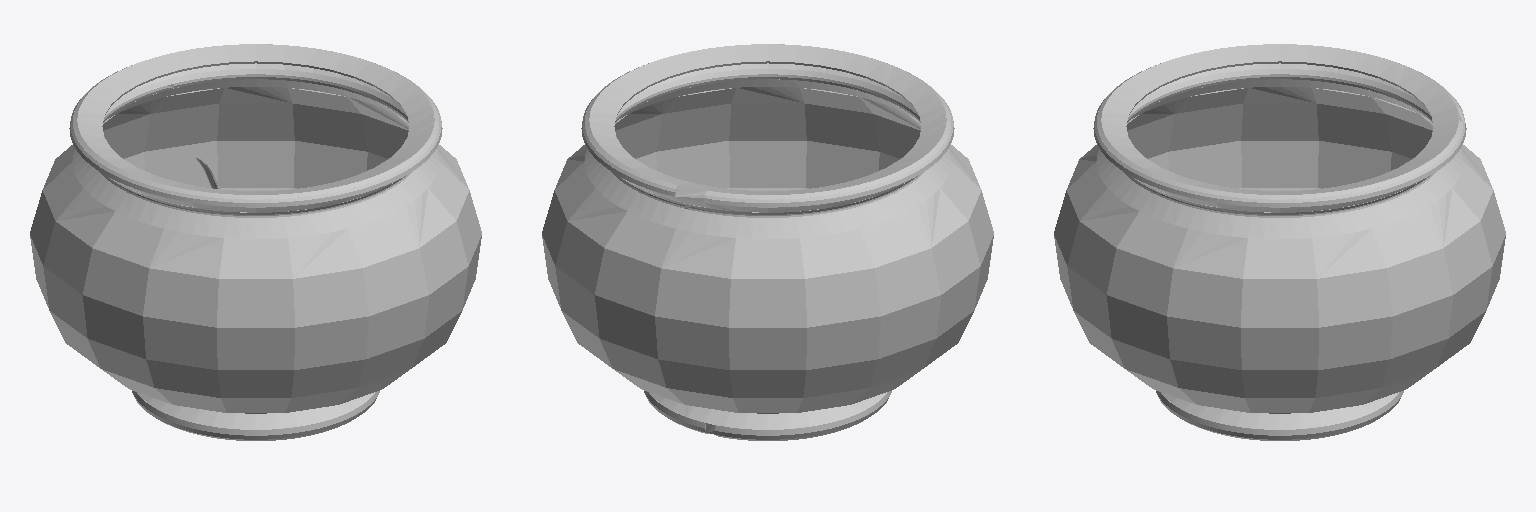
Rendered from GoldfishAndBowl.obj.
The picture shows the model from 3 angles: view 1: azimuth 30°, elevation 25°; view 2: azimuth 150°, elevation 25°; view 3: azimuth 270°, elevation 25°; orthographic projection.
Visible parts, largest first — view 1: initialShadingGroup revolvedSurface1; view 2: initialShadingGroup revolvedSurface1; view 3: initialShadingGroup revolvedSurface1.
Boxes of the visible parts, box(x1,y1,x2,y2) form: initialShadingGroup revolvedSurface1: box(30, 44, 481, 440); initialShadingGroup revolvedSurface1: box(542, 44, 993, 440); initialShadingGroup revolvedSurface1: box(1054, 44, 1505, 440).
Size of the model in its own units: 39.54 by 26.68 by 40.16.